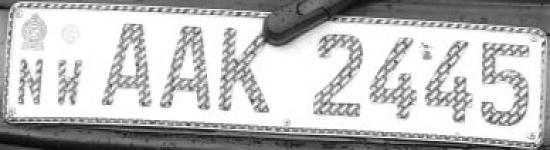2: (312, 25, 371, 122)
4: (424, 35, 478, 126), (372, 31, 424, 124)
5: (478, 36, 532, 136)
A: (98, 18, 156, 113), (158, 22, 212, 116)
K: (215, 24, 276, 117)
N: (15, 54, 45, 108)
W: (52, 57, 84, 112)
